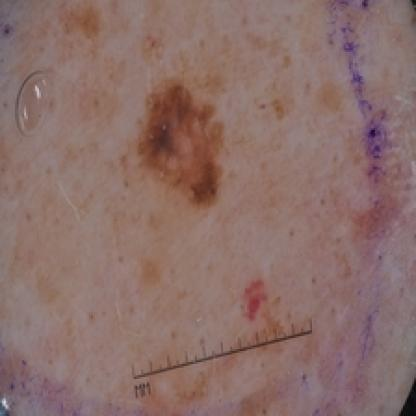Skin_Cancer-Malignant: (140, 71, 231, 212)
